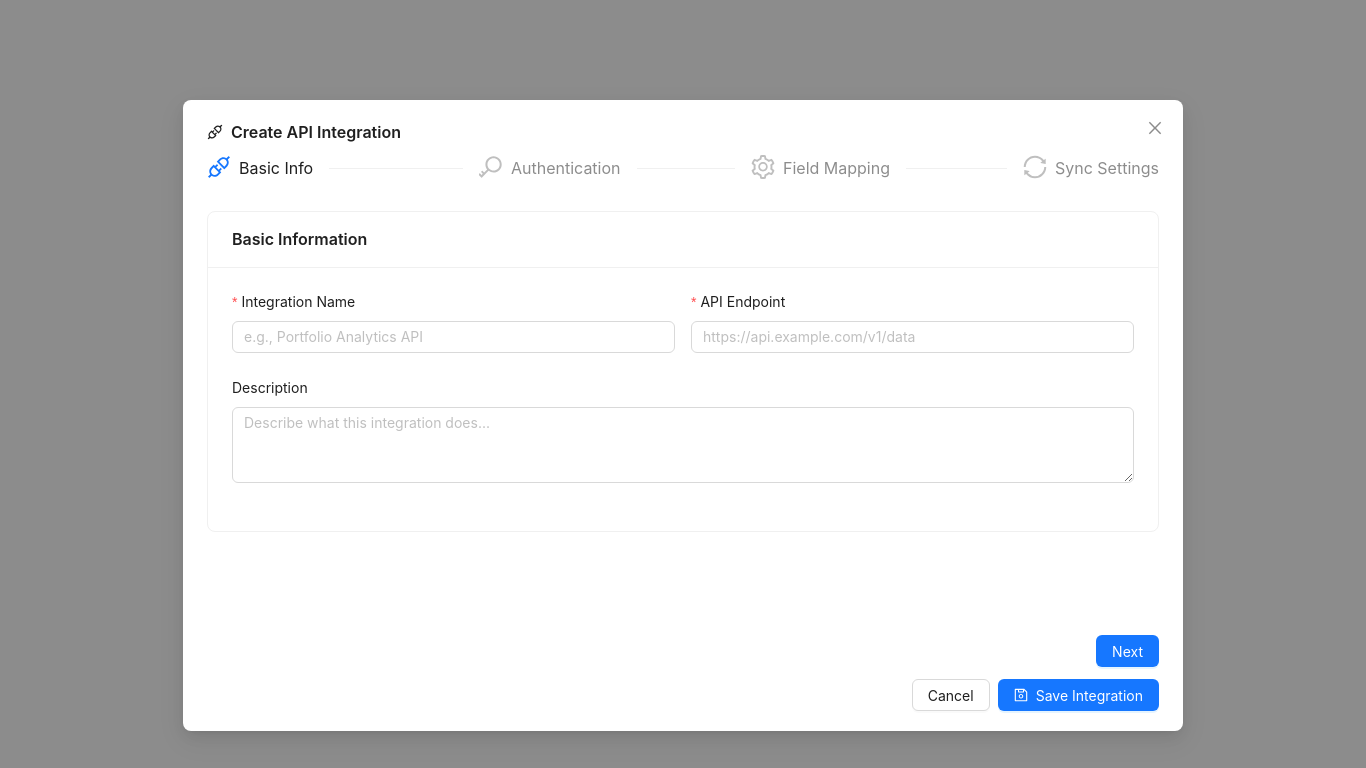
Test: IntegrationSetup › Basic Information Step › requires API endpoint
This screenshot has width=1366, height=768.
// Fill name but not endpoint
Step 1. Type "Test Integration" into the field with placeholder "e.g., Portfolio Analytics API" → coordinates (454, 337), box left=232, top=321, right=675, bottom=353
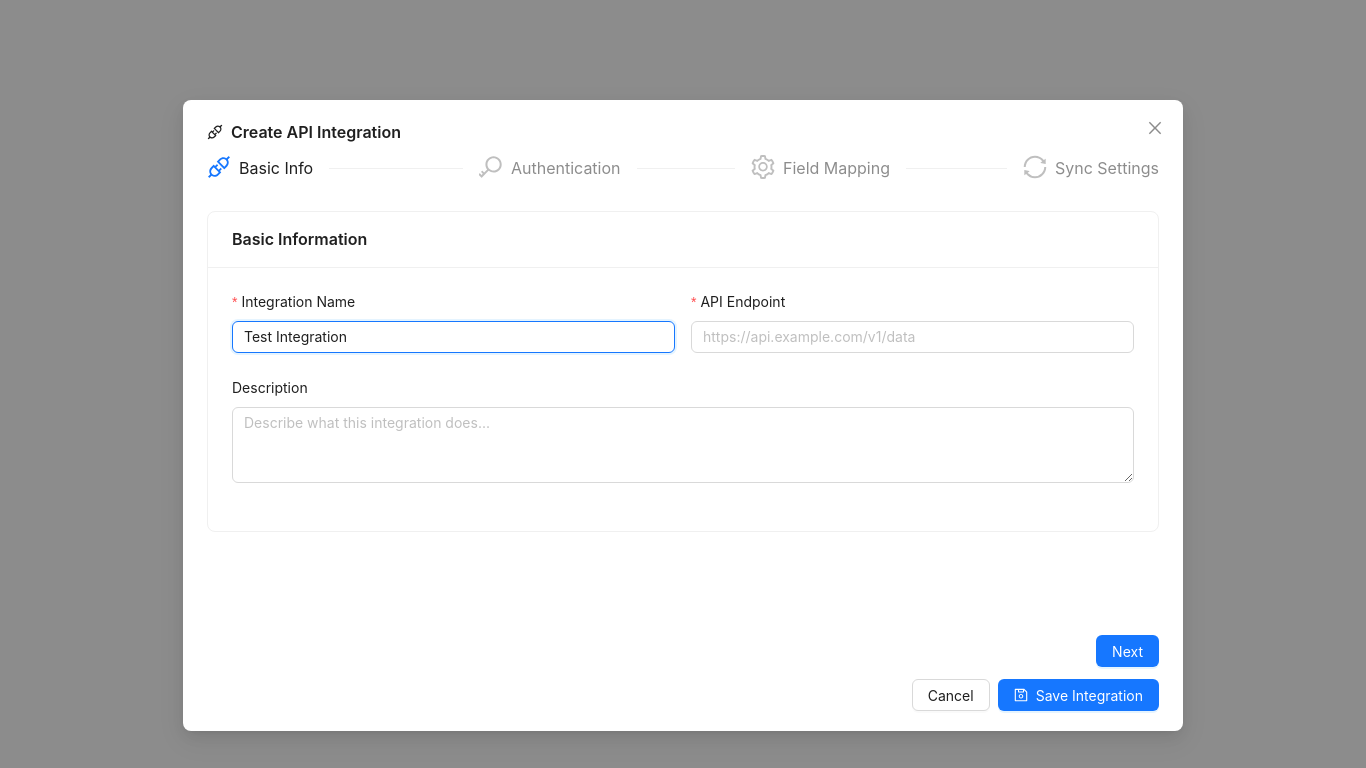
Step 2. Click the button "Save Integration" → coordinates (1078, 695), box left=998, top=679, right=1159, bottom=711
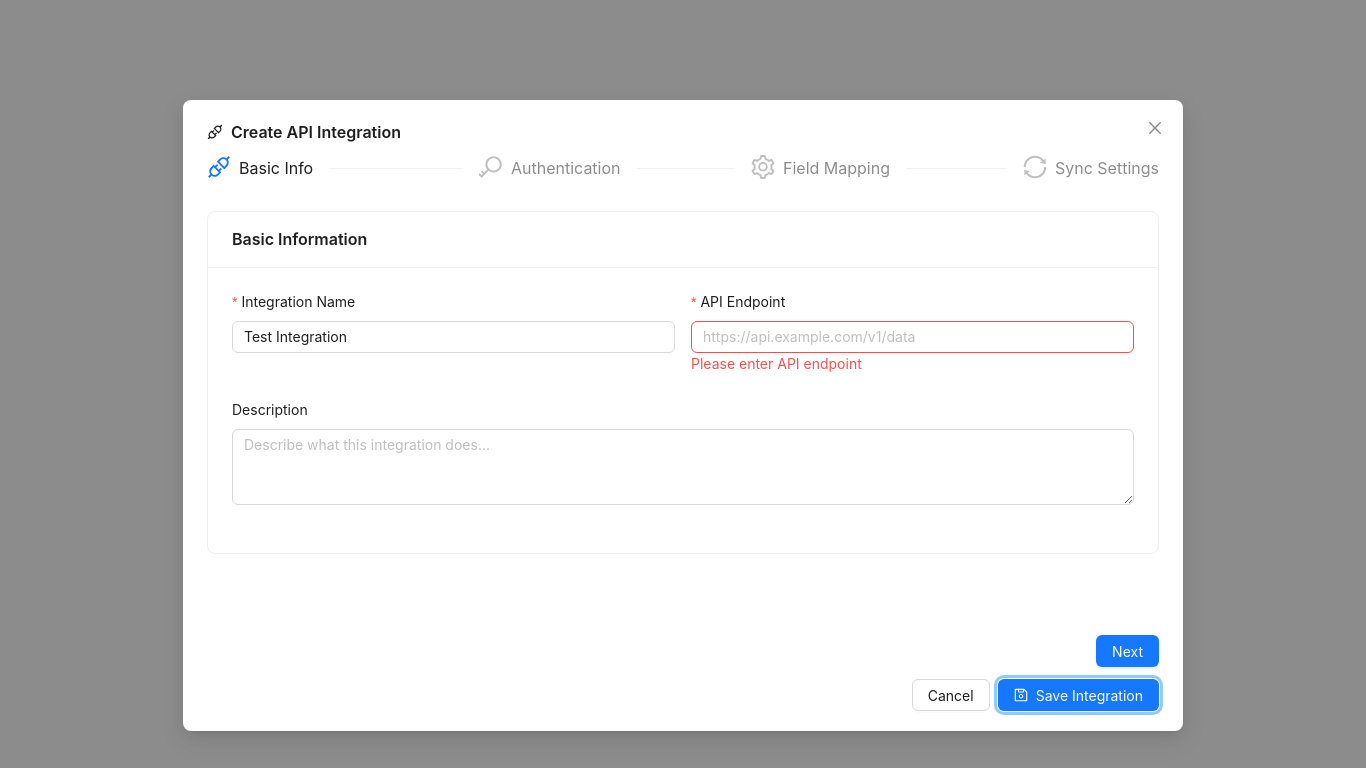
Result: the text "Please enter API endpoint" is shown at left=691, top=355, right=862, bottom=372
